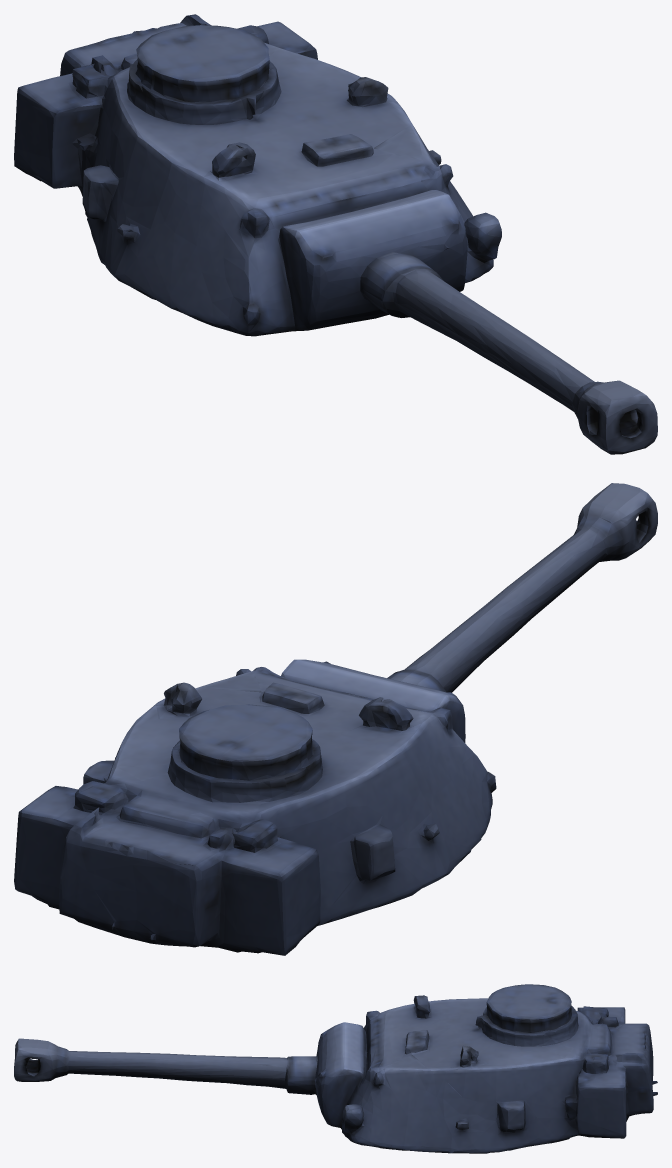
Rendered from m26_pershing_turret_enemy.glb.
3 views of the same model, one above another, from view 1: azimuth 30°, elevation 25°; view 2: azimuth 150°, elevation 25°; view 3: azimuth 270°, elevation 25° (orthographic). The views are drawn at different scales.
Visible parts, largest first — view 1: turret; view 2: turret; view 3: turret.
Part boxes in pixels (left/top/right/bottom): turret: left=14, top=14, right=657, bottom=454; turret: left=14, top=483, right=657, bottom=955; turret: left=14, top=984, right=657, bottom=1153.
Bounding box in the file's own units: 0.311 × 0.1448 × 0.8313.
2 materials, 1 textured.
